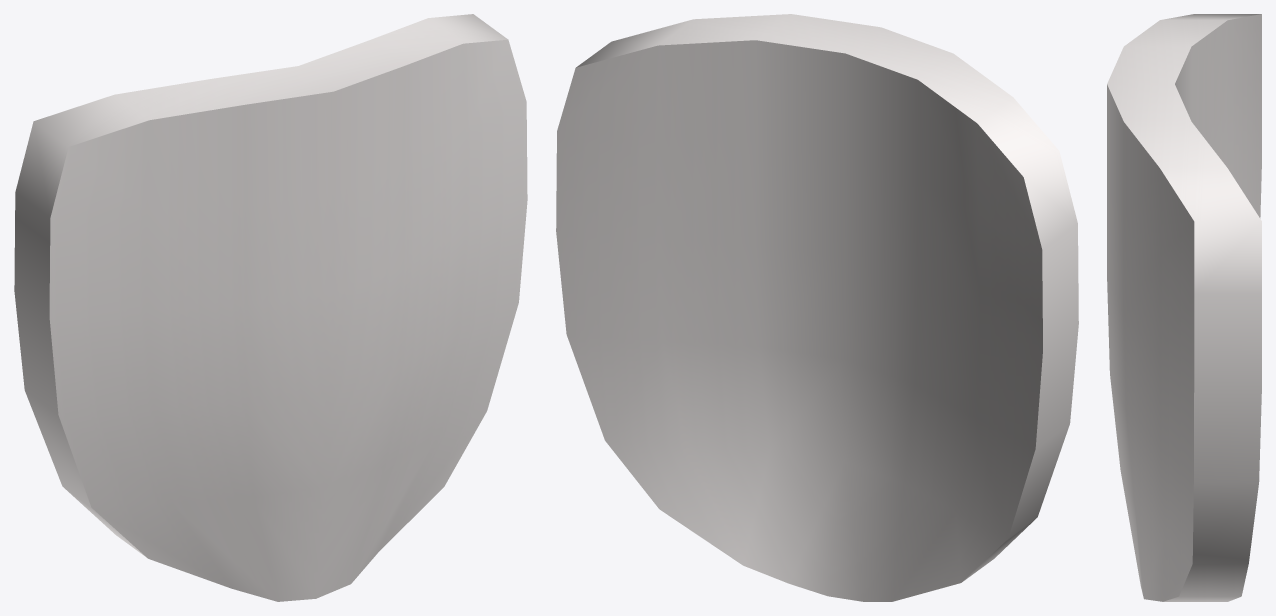
The model's file is mask_01.fbx.
3 renders of one model, left to right at view 1: azimuth 30°, elevation 25°; view 2: azimuth 150°, elevation 25°; view 3: azimuth 270°, elevation 25°, orthographic. The views are drawn at different scales.
Visible parts, largest first — view 1: Mask_01; view 2: Mask_01; view 3: Mask_01.
Boxes of the visible parts, x1,y1,x2,y2 form: Mask_01: (14, 14, 527, 601); Mask_01: (556, 14, 1078, 601); Mask_01: (1107, 14, 1261, 601).
Size of the model in its own units: 113 by 117 by 32.72.
